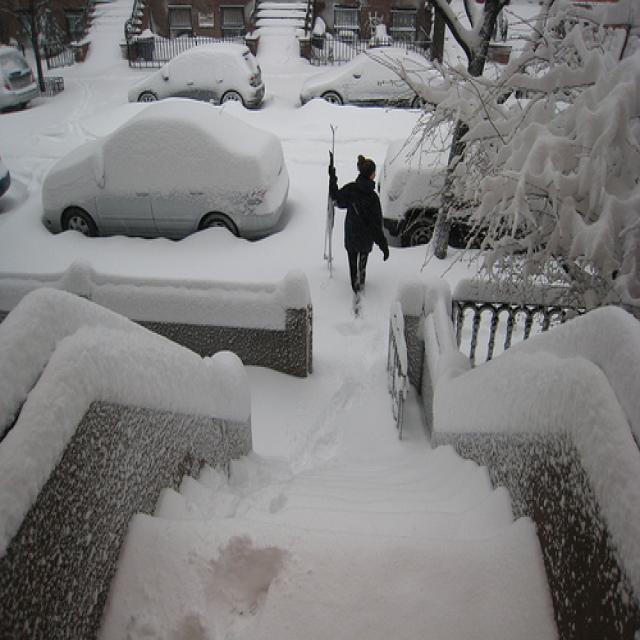Vehicle: (42, 98, 292, 241), (128, 42, 270, 108), (298, 45, 448, 106), (377, 134, 453, 249), (0, 45, 40, 114), (0, 155, 12, 199)
